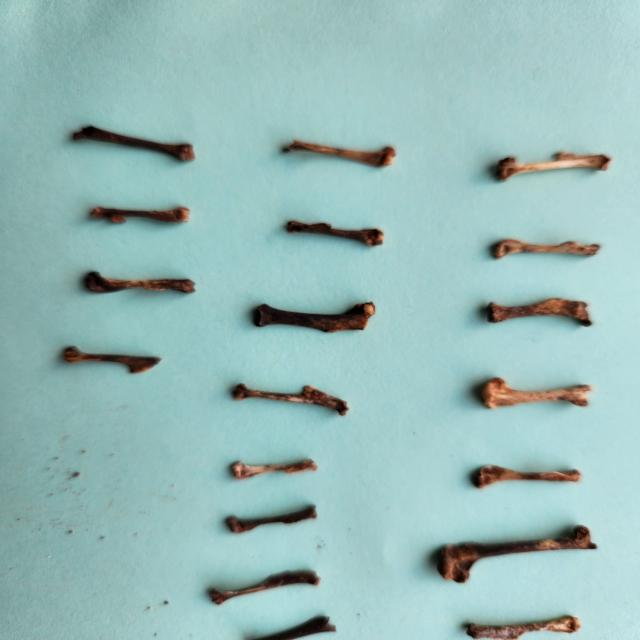fossil: (417, 516, 616, 584), (59, 117, 205, 168), (244, 294, 390, 344), (468, 371, 606, 421), (482, 143, 618, 189), (200, 562, 335, 608), (218, 379, 369, 420), (275, 132, 407, 178), (74, 264, 205, 303), (476, 291, 606, 330), (276, 212, 396, 254), (54, 339, 166, 384), (462, 456, 592, 494), (218, 499, 332, 540), (478, 231, 611, 265), (450, 610, 600, 640), (222, 450, 332, 489), (80, 198, 202, 233), (228, 614, 342, 640)
